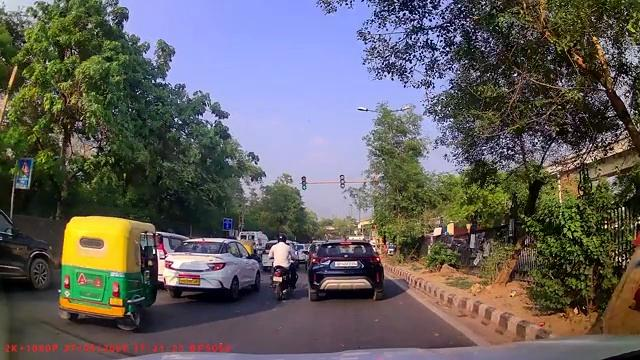motorcycle_with_helmet: (269, 232, 299, 301)
